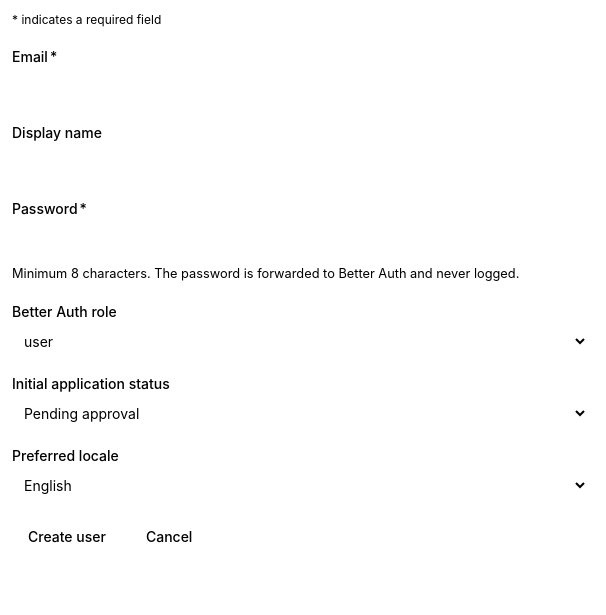
Test: NewUserForm › shows field-level errors and marks controls invalid on an empty submit
What coordinates should you click on to do the following:
click the button "Create user"
I would click on:
 (67, 537)
Its box is [12,519,122,555].
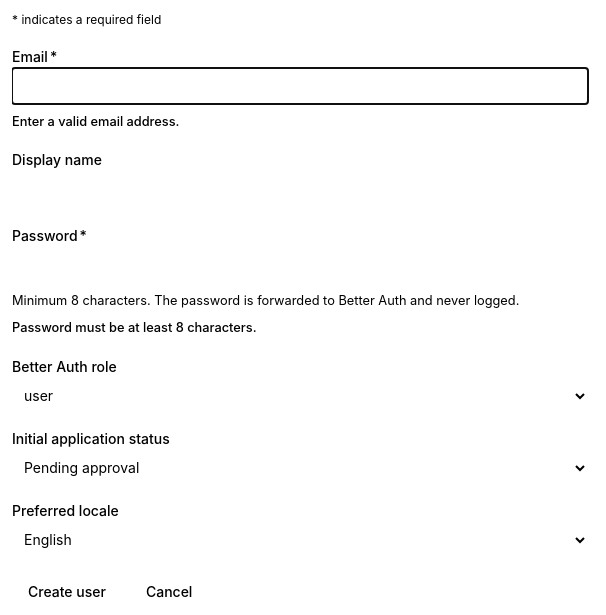
Expected: the text "Enter a valid email address." is shown, [12,114,180,129]
Expected: the text "Password must be at least 8 characters." is shown, [12,320,257,335]
